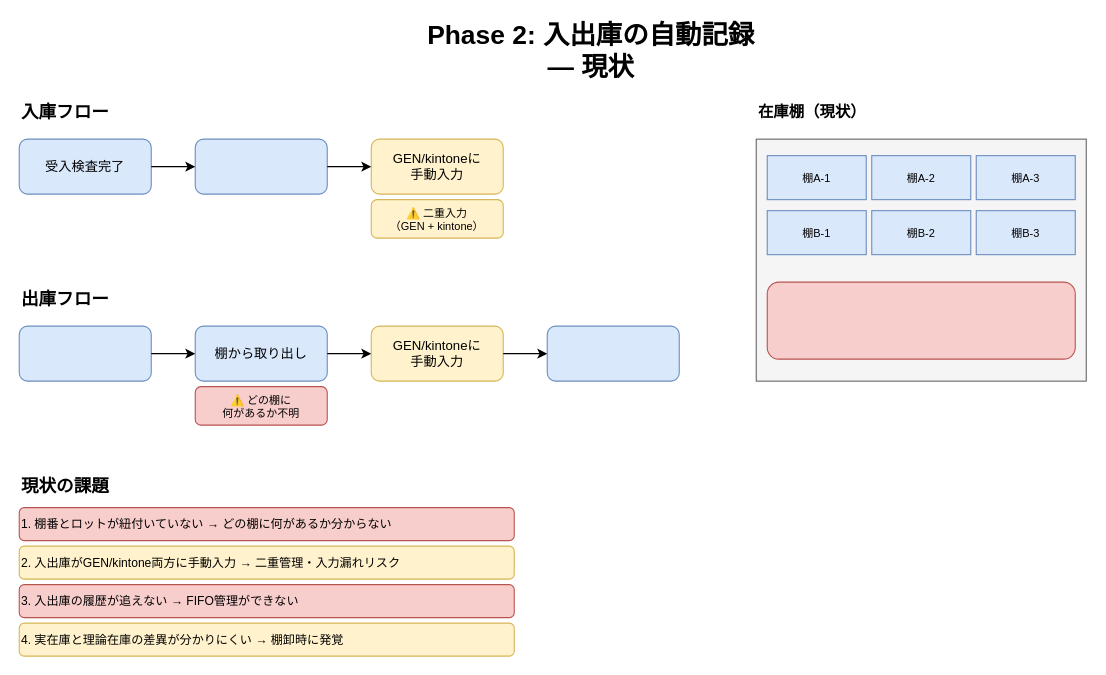
Some shapes in this 1106 by 675 pixel diagram are drawn without their labels. The centre of each missing label's shape, as x and y in pixels:
❌ 何がどこにあるか分からない ❌ 入出庫履歴が追えない ❌ 先入れ先出しが管理できない: the point at 920,320
出庫指示: the point at 84,353
棚に格納: the point at 260,166
製造各社へ出荷: the point at 612,353
